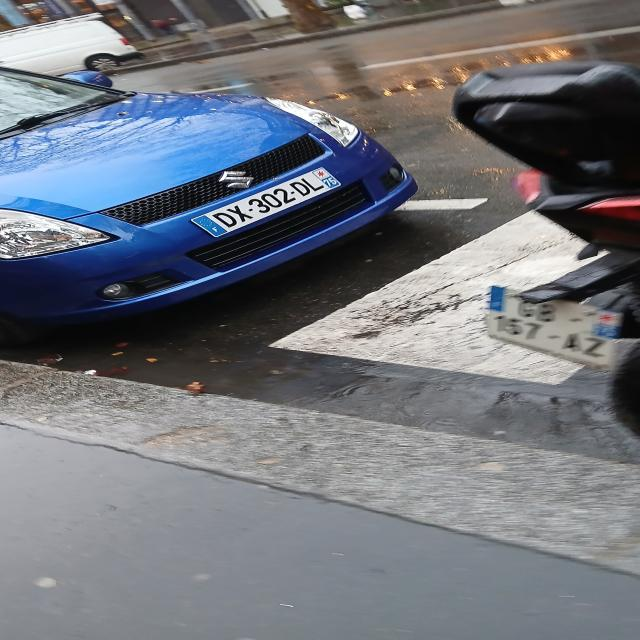EU: (475, 285, 623, 372), (189, 166, 342, 238)
France: (191, 216, 229, 236), (488, 286, 504, 311)
